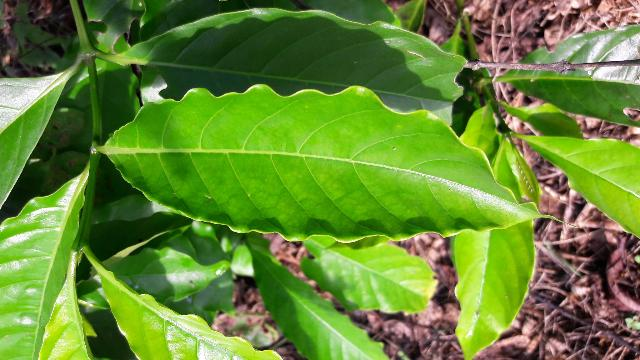healthy: (104, 87, 547, 242)
